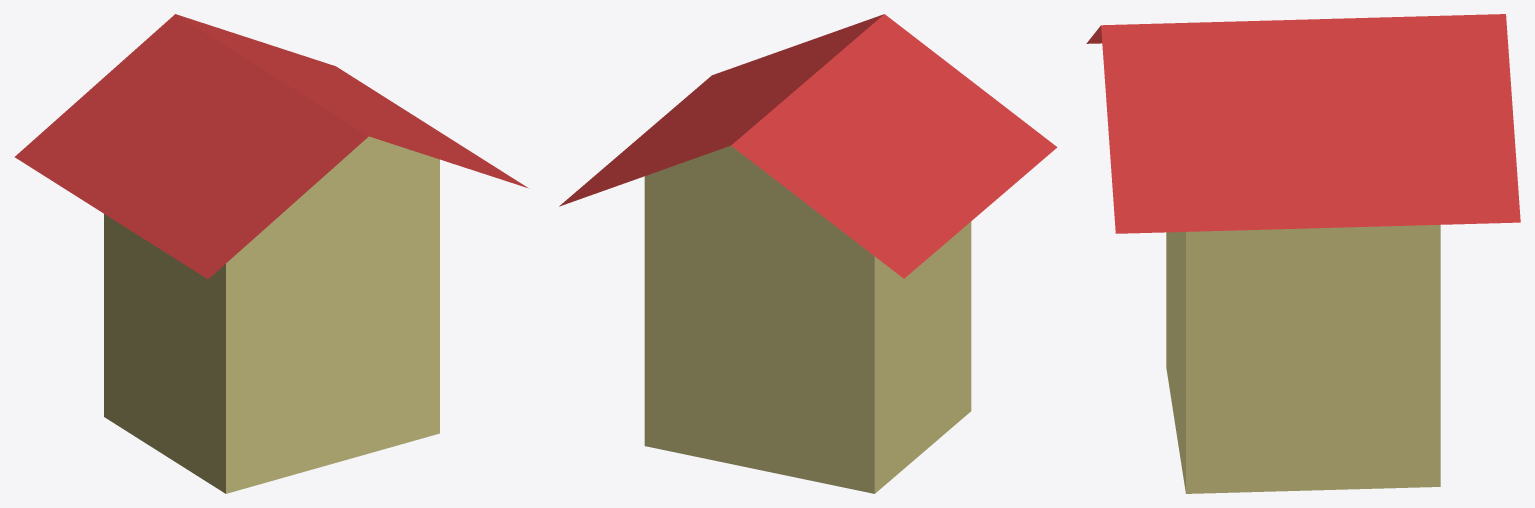
The picture shows the model from 3 angles, left to right: view 1: azimuth 30°, elevation 25°; view 2: azimuth 150°, elevation 25°; view 3: azimuth 270°, elevation 25°; orthographic projection. The views are drawn at different scales.
Parts seen in each view (by area): view 1: group_5, group_3, group_4; view 2: group_5, group_3, group_4; view 3: group_5, group_3, group_4.
Part boxes in pixels (x1,y1,x2,y2): group_5: (104,136,439,493); group_3: (15,14,528,278); group_4: (172,14,413,278); group_5: (644,145,971,493); group_3: (560,14,1056,278); group_4: (559,14,1056,206); group_5: (1166,225,1440,493); group_3: (1086,16,1519,233); group_4: (1087,14,1520,231).
Size of the model in its own units: 12.65 by 11.54 by 11.95.
